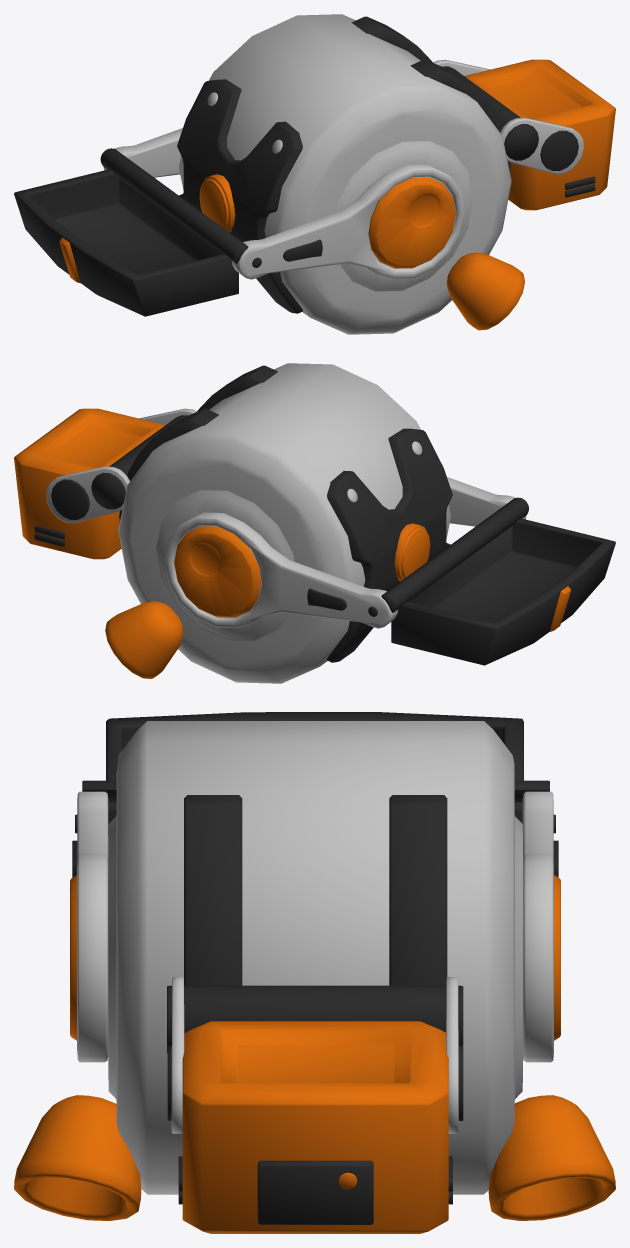
3 views of the same model, one above another, from view 1: azimuth 30°, elevation 25°; view 2: azimuth 150°, elevation 25°; view 3: azimuth 270°, elevation 25° (orthographic). The views are drawn at different scales.
Visible parts, largest first — view 1: Drone_carrier.003; view 2: Drone_carrier.003; view 3: Drone_carrier.003.
Boxes of the visible parts, bbox=[...] form: Drone_carrier.003: bbox=[14, 14, 615, 334]; Drone_carrier.003: bbox=[14, 363, 615, 683]; Drone_carrier.003: bbox=[14, 712, 615, 1233].
Size of the model in its own units: 5.76 by 2.6 by 3.3.
